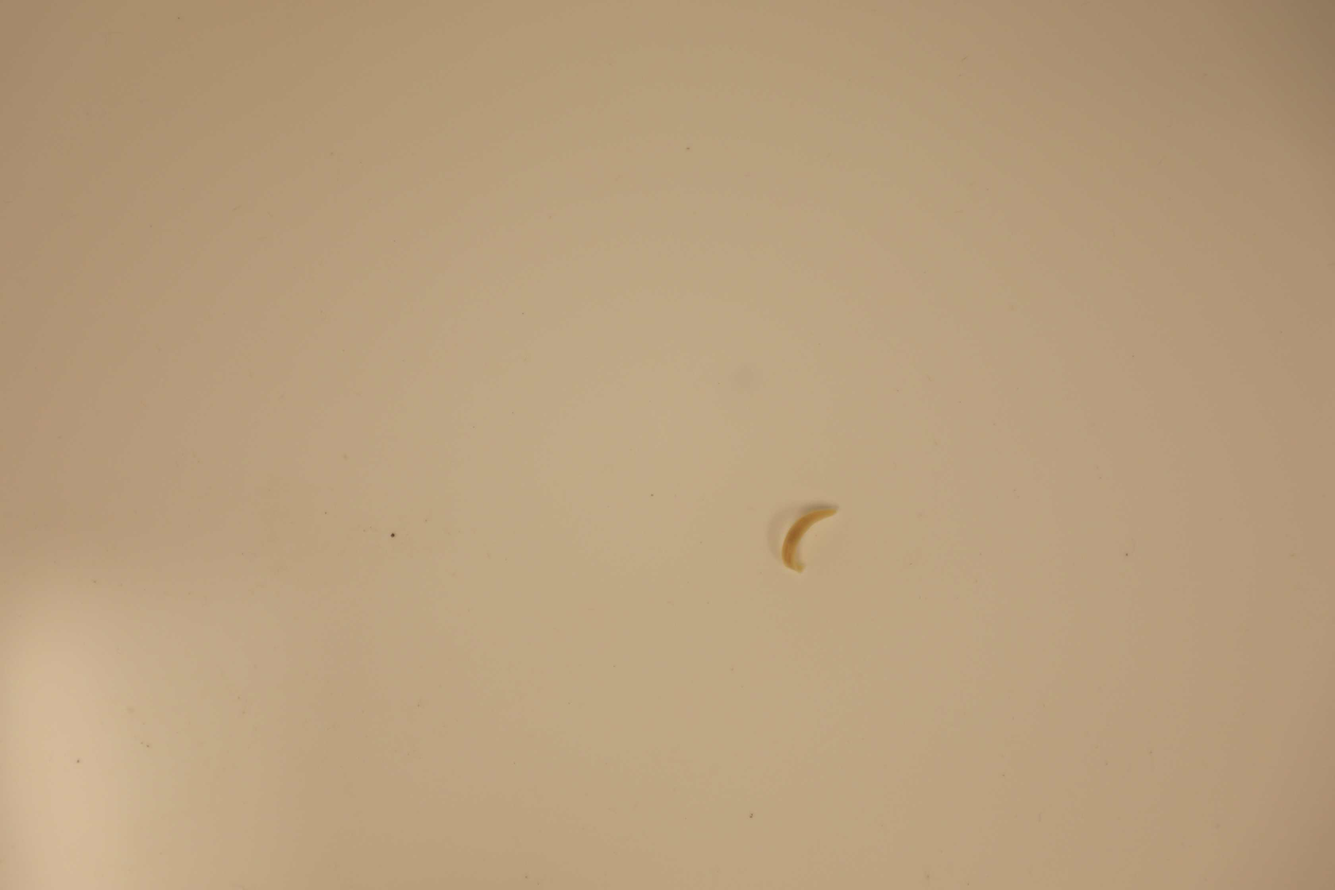Cadisfly: (781, 506, 840, 576)
